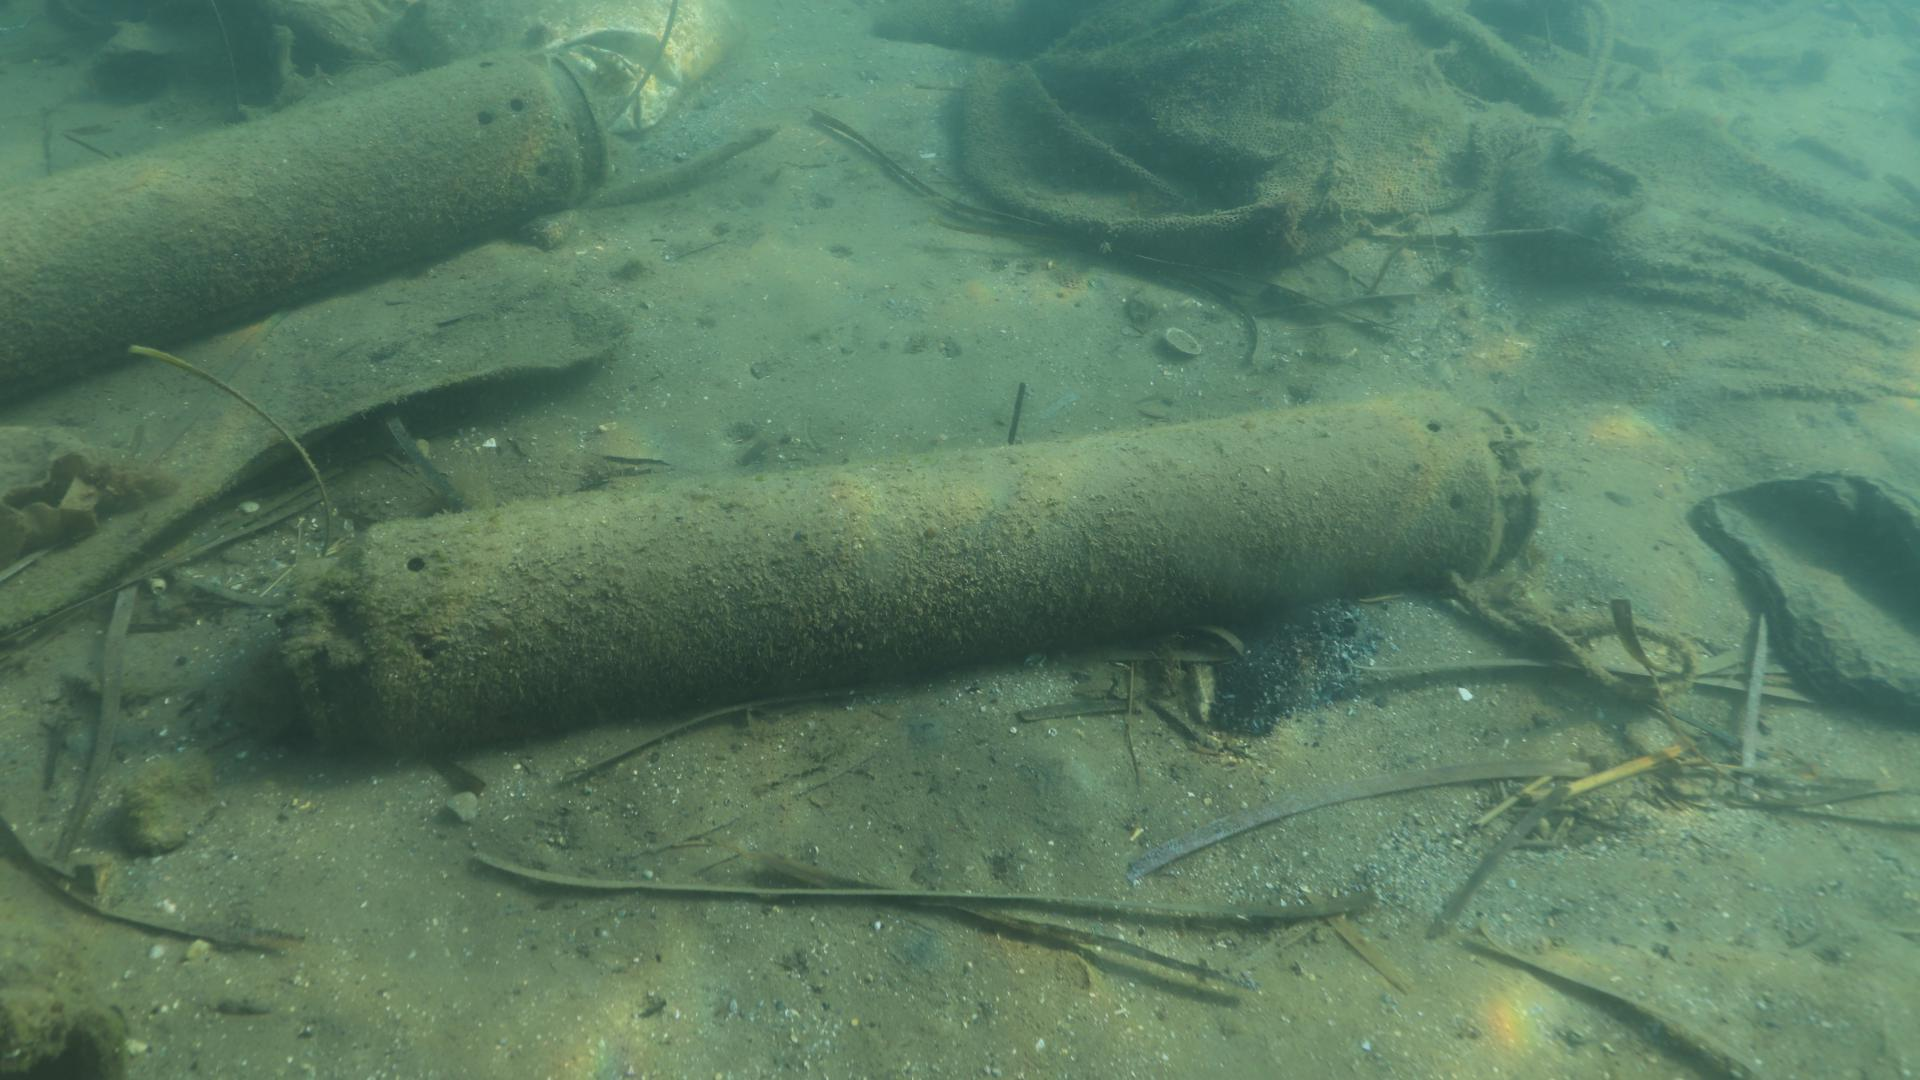eel fish trap: (274, 386, 1538, 767), (0, 44, 609, 413)
fish net: (956, 0, 1486, 272)
